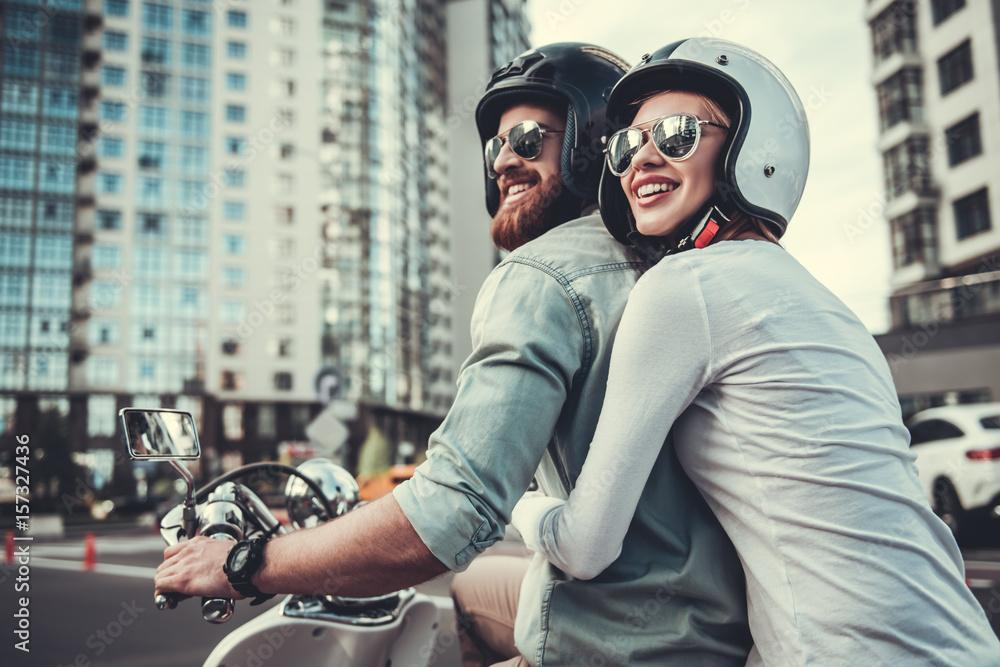helmet: (596, 35, 812, 258), (473, 39, 669, 255)
